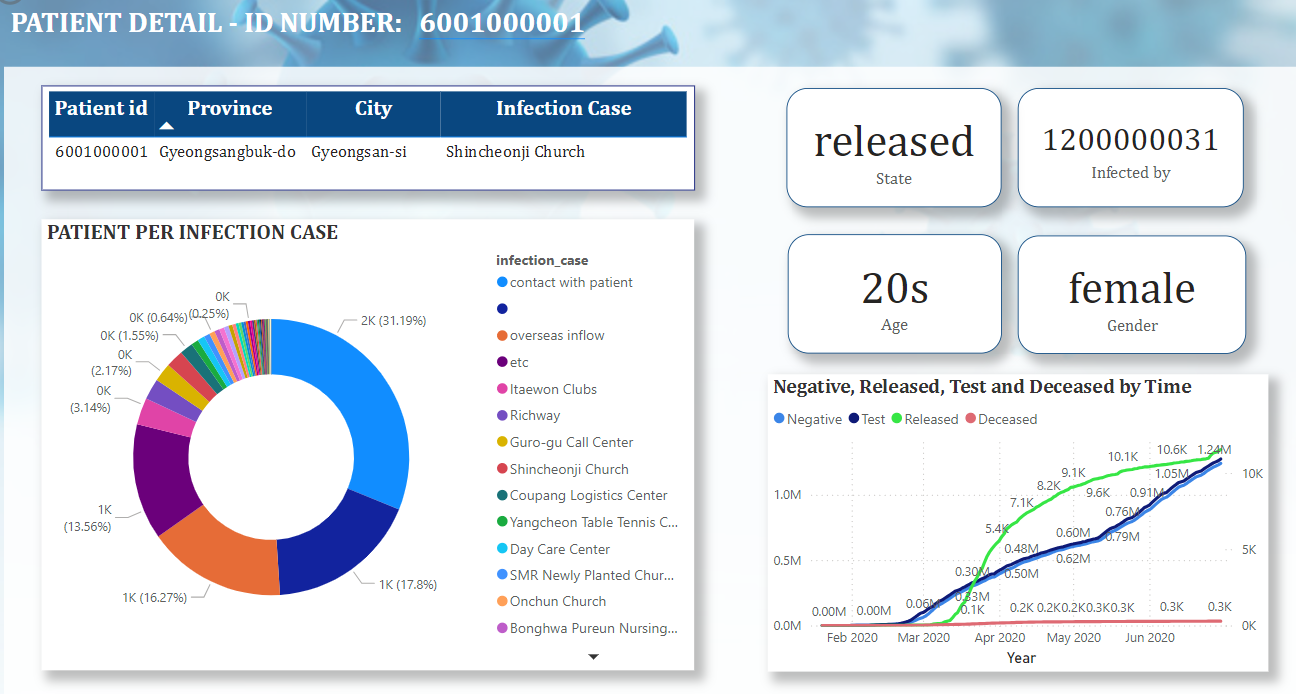

What the dashboard file says about the page in this screenshot:
{"tool":"powerbi","page":{"name":"PATIENT DETAIL","canvas":[1280,720],"ordinal":3},"visuals":[{"type":"textbox","box":[14.3,94.3,1248.6,614.3],"z":0},{"type":"textbox","box":[14.9,31,614.4,53.4],"z":1000},{"type":"actionButton","box":[0,0,100,40],"z":2000},{"type":"card","fields":{"Values":["Min(PatientInfo.age)"]},"box":[761.2,253.5,203.8,113.8],"z":3000},{"type":"card","fields":{"Values":["Sum(PatientInfo.infected_by)"]},"box":[980,114.8,215,113.8],"z":4000},{"type":"card","fields":{"Values":["Min(PatientInfo.state)"]},"box":[760,114.8,205,113.8],"z":5000},{"type":"card","fields":{"Values":["Min(PatientInfo.sex)"]},"box":[980,254.8,217.5,112.5],"z":6000},{"type":"tableEx","fields":{"Values":["PatientInfo.patient_id","PatientInfo.province","PatientInfo.city","PatientInfo.infection_case"]},"box":[50,111.9,622.6,100],"z":7000},{"type":"donutChart","title":"PATIENT PER INFECTION CASE","fields":{"Category":["Override Filters.infection_case"],"Y":["MEASURE.PATIENT PER INFECTION CASE"]},"box":[49.7,239.6,621.9,429.5],"z":8000},{"type":"lineChart","title":"Negative, Released, Test and Deceased by Time","fields":{"Category":["Time.date.Variation.Date Hierarchy.Year","Time.date.Variation.Date Hierarchy.Quarter","Time.date.Variation.Date Hierarchy.Month","Time.date.Variation.Date Hierarchy.Day"],"Y":["Max(Time.negative)","Max(Time.test)"],"Y2":["Max(Time.released)","Max(Time.deceased)"]},"box":[741.2,387,476.7,283],"z":9000}]}

Visuals, with their boxes on the page's 1280x720 design canvas (x1, y1, x2, y2). These are canvas units, not pixel positions in the 1296x694 screenshot, which may show the page scaled, cropped or inside an application window:
textbox: x1=14, y1=94, x2=1263, y2=709
textbox: x1=15, y1=31, x2=629, y2=84
actionButton: x1=0, y1=0, x2=100, y2=40
card - Min(PatientInfo.age): x1=761, y1=254, x2=965, y2=367
card - Sum(PatientInfo.infected_by): x1=980, y1=115, x2=1195, y2=229
card - Min(PatientInfo.state): x1=760, y1=115, x2=965, y2=229
card - Min(PatientInfo.sex): x1=980, y1=255, x2=1198, y2=367
tableEx - PatientInfo.patient_id x PatientInfo.province: x1=50, y1=112, x2=673, y2=212
"PATIENT PER INFECTION CASE" donutChart: x1=50, y1=240, x2=672, y2=669
"Negative, Released, Test and Deceased by Time" lineChart: x1=741, y1=387, x2=1218, y2=670
